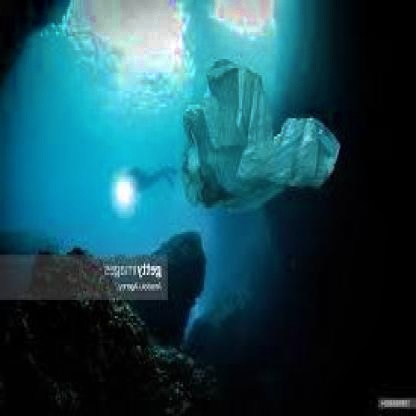pbag: (182, 57, 340, 216)
